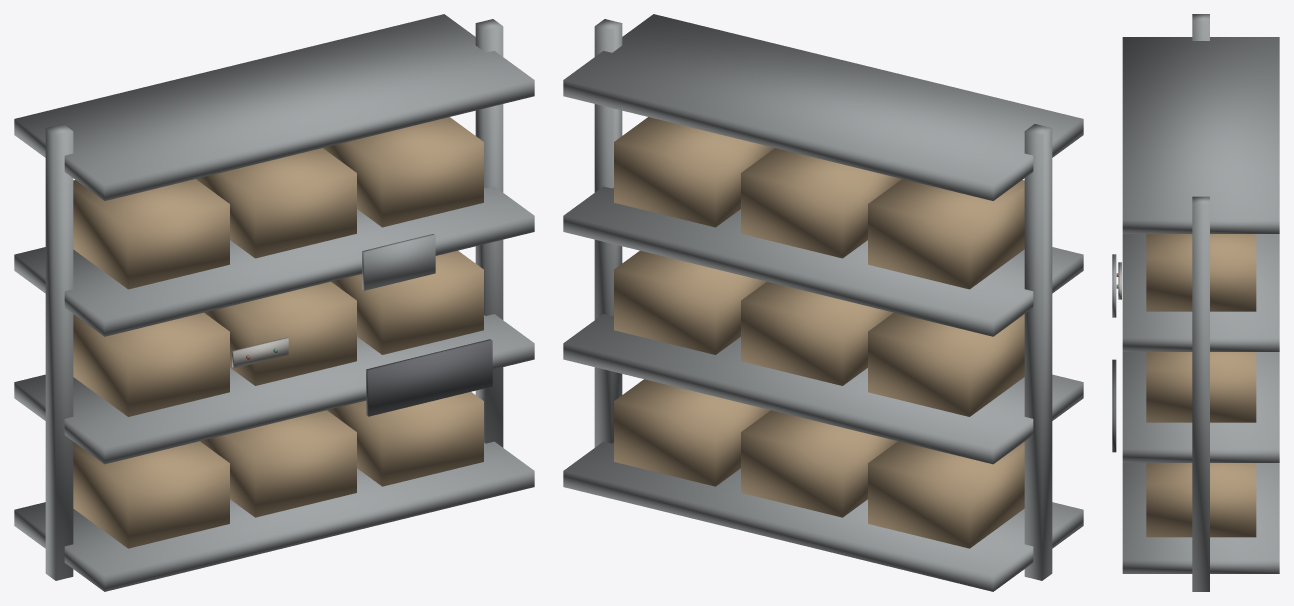
The model's file is warehouse_pallet_rack__weathered.glb.
3 renders of one model, left to right at view 1: azimuth 30°, elevation 25°; view 2: azimuth 150°, elevation 25°; view 3: azimuth 270°, elevation 25°, orthographic. The views are drawn at different scales.
Parts seen in each view (by area): view 1: world; view 2: world; view 3: world.
Part boxes in pixels (x1,y1,x2,y2): world: (14,14,534,591); world: (563,14,1083,591); world: (1112,14,1279,591).
Bounding box in the file's own units: 2.29 × 2.18 × 0.853.
